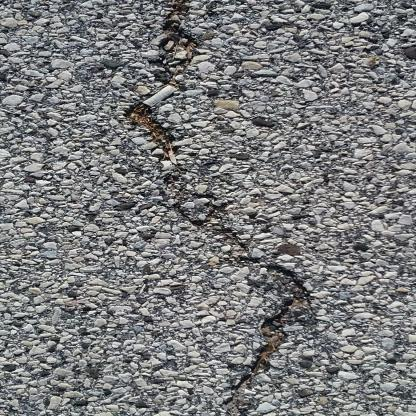Cracks: (181, 256, 316, 416), (123, 0, 238, 166)
